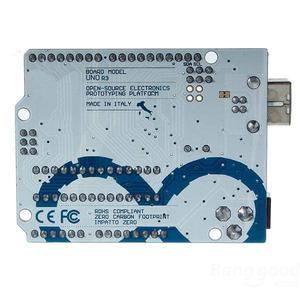duino: (18, 30, 278, 249)
